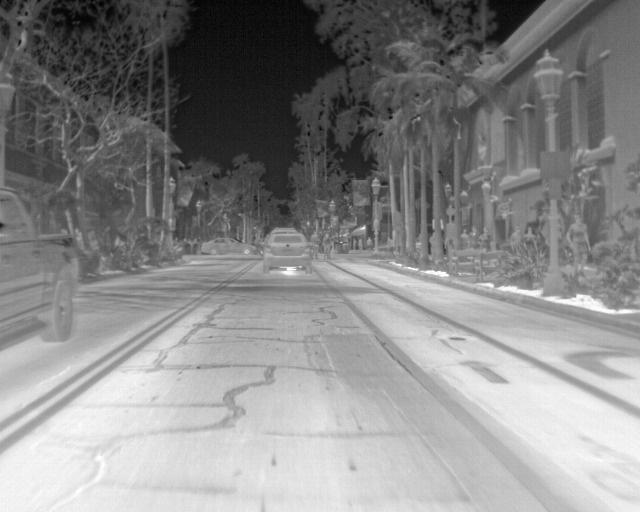bicycle: (0, 186, 79, 350), (261, 231, 312, 274), (199, 236, 256, 255)
empty: (564, 213, 591, 272), (308, 230, 321, 260), (477, 226, 492, 251), (468, 223, 481, 249), (508, 227, 522, 251), (459, 226, 472, 250), (322, 233, 333, 259), (521, 226, 536, 240), (363, 235, 376, 250), (354, 237, 366, 252)
